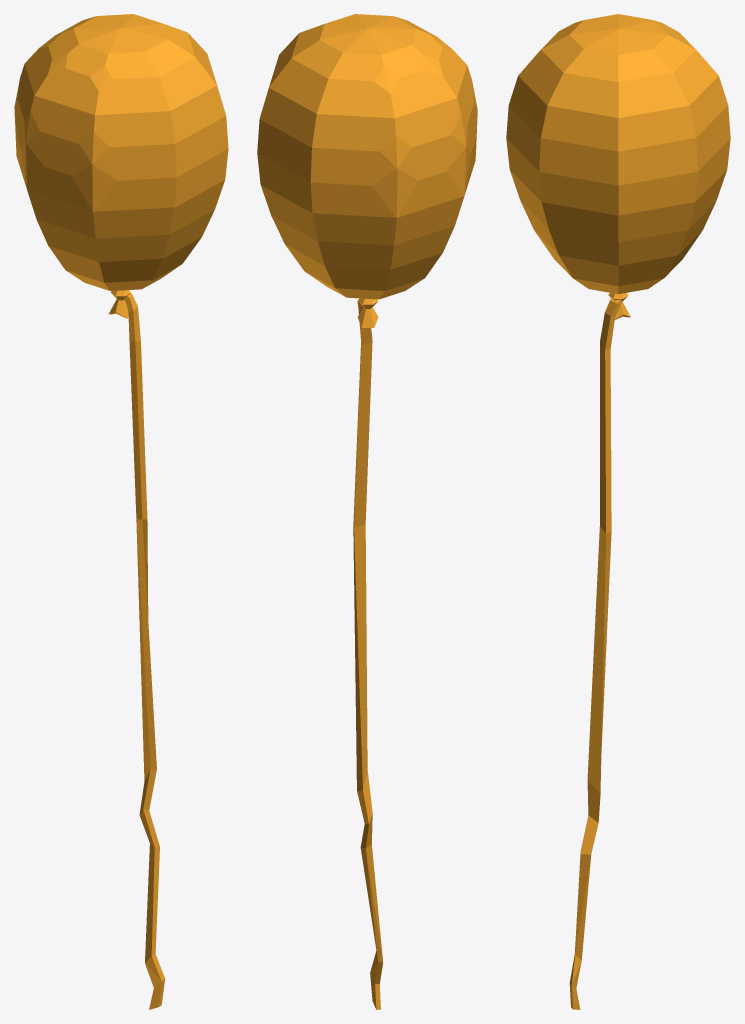
The model's file is SM_Balloon_Small_Flag_American_Ribbon.fbx.
The picture shows the model from 3 angles, left to right: view 1: azimuth 30°, elevation 25°; view 2: azimuth 150°, elevation 25°; view 3: azimuth 270°, elevation 25°; orthographic projection. The views are drawn at different scales.
Visible parts, largest first — view 1: balloon-small-flag-american-ribbon; view 2: balloon-small-flag-american-ribbon; view 3: balloon-small-flag-american-ribbon.
Boxes of the visible parts, x1,y1,x2,y2 form: balloon-small-flag-american-ribbon: (14, 14, 228, 1009); balloon-small-flag-american-ribbon: (257, 14, 477, 1009); balloon-small-flag-american-ribbon: (506, 14, 730, 1009).
Size of the model in its own units: 0.265 by 1.28 by 0.2665.
